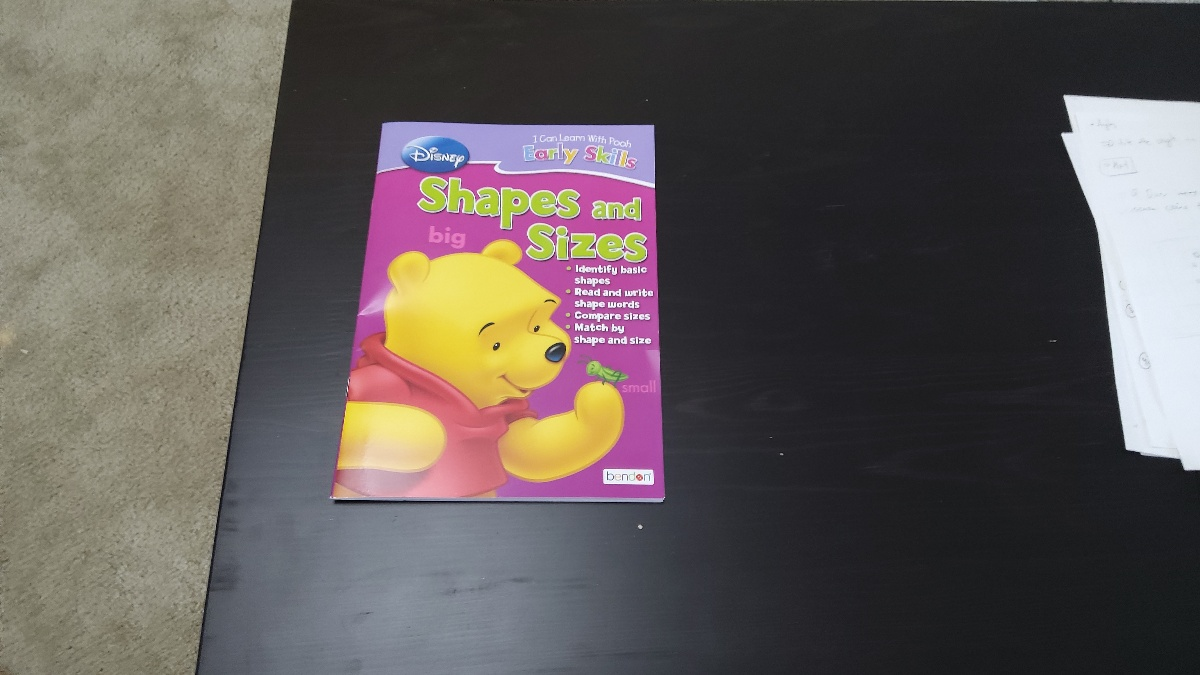book: (326, 120, 662, 510)
